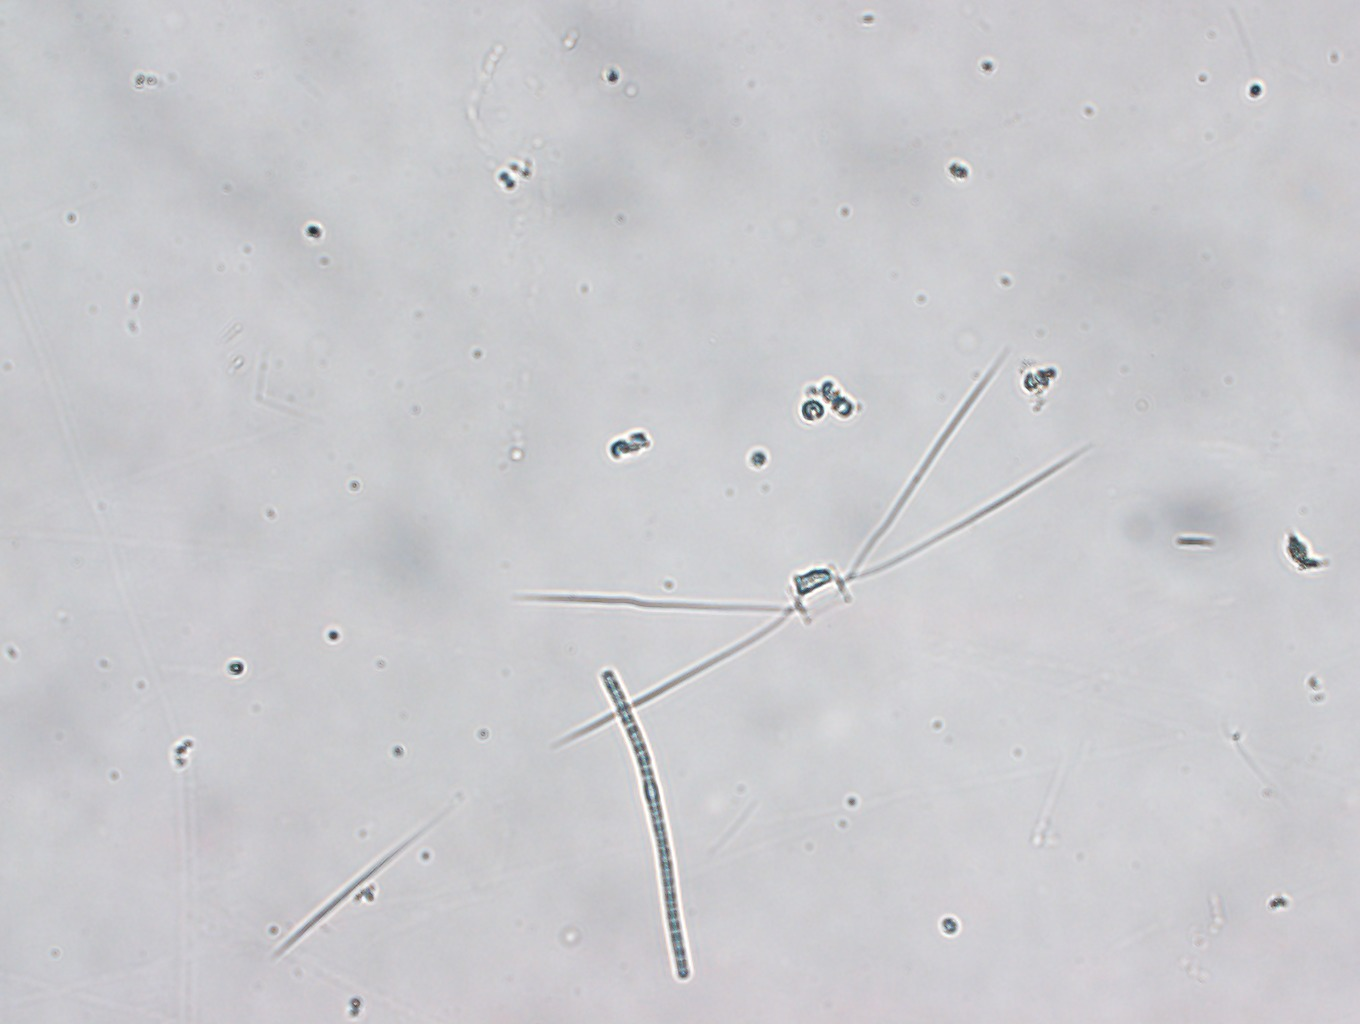chaetoceros: (507, 342, 1097, 752)
